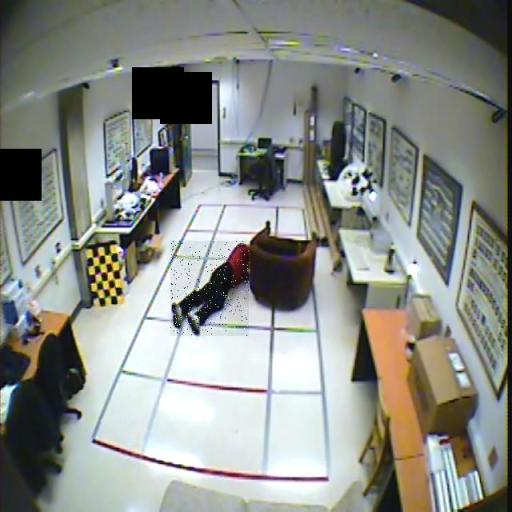Fall: (170, 241, 249, 336)
